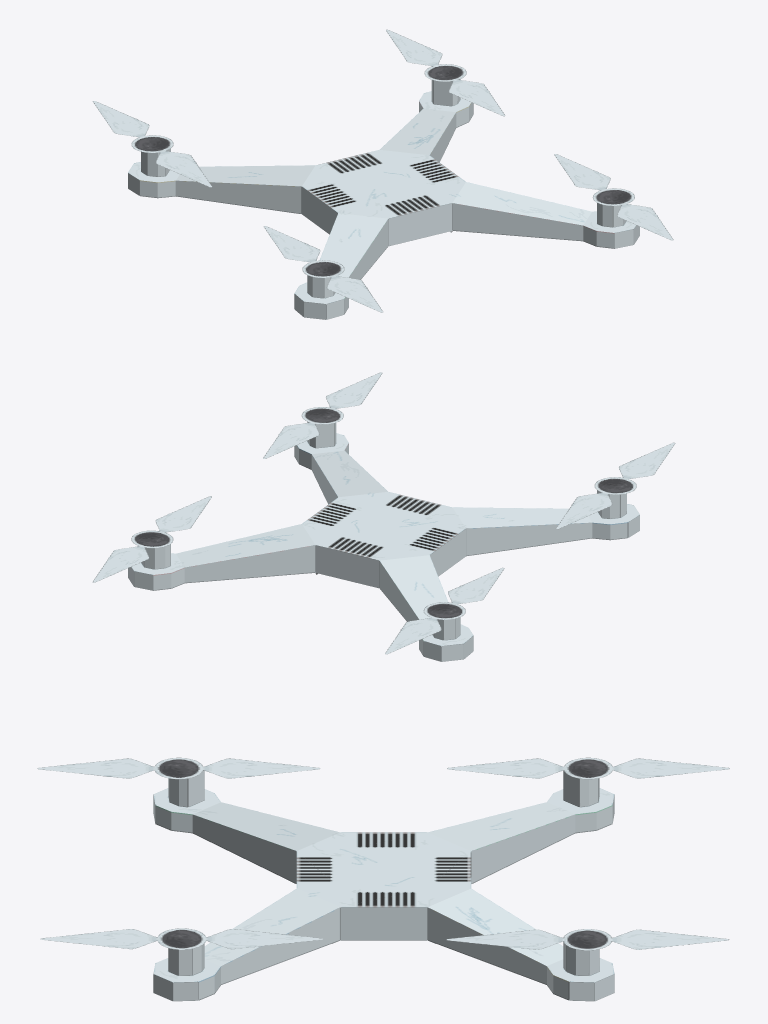
File: Drone.fbx
3 views of the same model, one above another, from view 1: azimuth 30°, elevation 25°; view 2: azimuth 150°, elevation 25°; view 3: azimuth 270°, elevation 25° (orthographic). The views are drawn at different scales.
Parts seen in each view (by area): view 1: Drone; view 2: Drone; view 3: Drone.
Boxes of the visible parts, <box> form: Drone: <box>92,29,673,319</box>; Drone: <box>92,372,675,661</box>; Drone: <box>37,757,729,1001</box>.
Size of the model in its own units: 3057 by 272 by 3073.
Materials: 1 (1 with a texture image).
